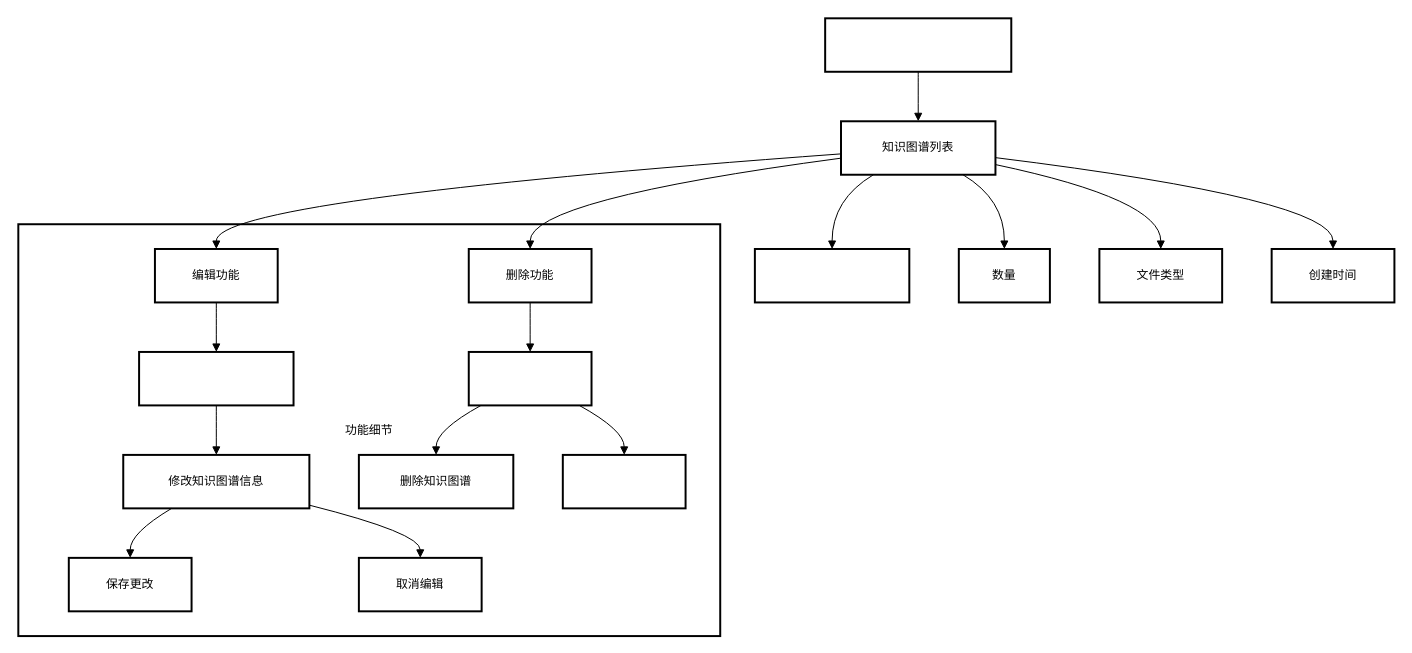
Image size: 1412x653. Some labels were removed from this diagram. The shapes that lost their labels are listed below. From the top down, each one's box as (x1, y1, x2, y2) in pixels, then its label:
(824, 17, 1012, 72): 知识图谱管理界面
(753, 248, 910, 303): 知识图谱名称
(138, 350, 294, 406): 打开编辑界面
(467, 350, 592, 406): 确认删除
(561, 453, 686, 509): 取消删除
